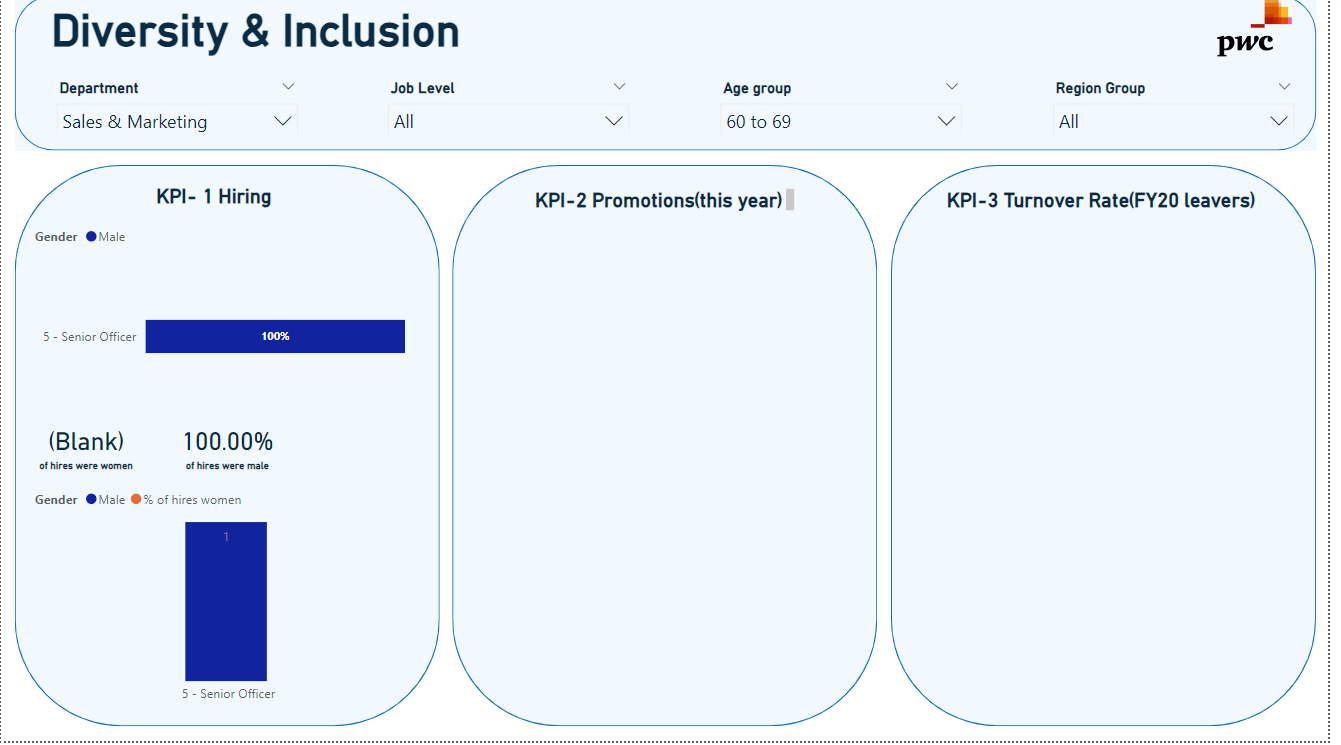

This screenshot's page, from the dashboard's own definition file:
{"tool":"powerbi","page":{"name":"Diversity  1","canvas":[1280,720],"ordinal":0},"visuals":[{"type":"shape","box":[12.9,164.3,410,541.4],"z":0},{"type":"shape","box":[12.9,0,1255.7,150],"z":1000},{"type":"textbox","box":[42.9,4.3,417.1,60],"z":2000},{"type":"image","box":[1161.4,0,95.7,64.3],"z":3000},{"type":"slicer","fields":{"Values":["Pharma Group AG.Department @01.07.2020"]},"box":[42.9,75.7,252.9,58.6],"z":4000},{"type":"slicer","fields":{"Values":["Pharma Group AG.Broad region group: nationality 1"]},"box":[1004.3,75.7,252.9,58.6],"z":5000},{"type":"slicer","fields":{"Values":["Pharma Group AG.Job Level before FY20 promotions"]},"box":[363.3,75.7,252.9,58.6],"z":6000},{"type":"slicer","fields":{"Values":["Pharma Group AG.Age group"]},"box":[683.8,75.7,252.9,58.6],"z":7000},{"type":"shape","box":[858.6,164.3,410,541.4],"z":8000},{"type":"shape","box":[435.7,164.3,410,541.4],"z":9000},{"type":"textbox","box":[145,178,146,35],"z":10000},{"type":"textbox","box":[885,181.7,351.7,63.3],"z":11000},{"type":"textbox","box":[510,182,260,31],"z":12000},{"type":"hundredPercentStackedBarChart","fields":{"Category":["Pharma Group AG.Job Level before FY20 promotions"],"Series":["Pharma Group AG.Gender"],"Y":["CountNonNull(Pharma Group AG.Employee ID)"]},"box":[27.3,213.6,367.3,198.2],"z":13000},{"type":"card","fields":{"Values":["Key_Measures.Female"]},"box":[27.3,404.5,109.1,61.8],"z":14000},{"type":"card","fields":{"Values":["Key_Measures.Male"]},"box":[163.6,404.5,109.1,61.8],"z":15000},{"type":"lineClusteredColumnComboChart","fields":{"Category":["Pharma Group AG.Job Level before FY20 promotions"],"Series":["Pharma Group AG.Gender"],"Y":["CountNonNull(Pharma Group AG.Employee ID)"],"Y2":["Key_Measures.Female"]},"box":[27.3,466.4,383.6,225.5],"z":16000},{"type":"lineClusteredColumnComboChart","fields":{"Series":["Pharma Group AG.Gender"],"Y":["CountNonNull(Pharma Group AG.Employee ID)"],"Category":["Pharma Group AG.Job Level after FY20 promotions"],"Y2":["Key_Measures.Promotes who were women 2"]},"box":[448.8,213.8,383.8,225],"z":17000},{"type":"clusteredBarChart","fields":{"Category":["Pharma Group AG.Job Level after FY21 promotions"],"Series":["Pharma Group AG.Gender"],"Y":["Avg(Pharma Group AG.Time in Job Level @01.07.2020)"]},"box":[448.3,448.3,385,244.2],"z":18000},{"type":"lineChart","fields":{"Category":["Pharma Group AG.Job Level after FY20 promotions"],"Y":["Avg(Pharma Group AG.FY19 Performance Rating)"],"Y2":["CountNonNull(Pharma Group AG.FY20 leaver?)"]},"box":[872,230,385,236],"z":19000},{"type":"lineChart","fields":{"Category":["Pharma Group AG.Job Level after FY20 promotions"],"Y":["Avg(Pharma Group AG.FY19 Performance Rating)"],"Series":["Pharma Group AG.Gender"]},"box":[871,448,385,223],"z":20000}]}

Visuals, with their boxes in screenshot pixels (x1, y1, x2, y2), scaled from the page's 1280x720 canvas onto the 1341x745 screenshot:
shape: region(14, 170, 443, 730)
shape: region(14, 0, 1329, 155)
textbox: region(45, 4, 482, 67)
image: region(1217, 0, 1317, 67)
slicer - Pharma Group AG.Department @01.07.2020: region(45, 78, 310, 139)
slicer - Pharma Group AG.Broad region group: nationality 1: region(1052, 78, 1317, 139)
slicer - Pharma Group AG.Job Level before FY20 promotions: region(381, 78, 646, 139)
slicer - Pharma Group AG.Age group: region(716, 78, 981, 139)
shape: region(900, 170, 1329, 730)
shape: region(456, 170, 886, 730)
textbox: region(152, 184, 305, 220)
textbox: region(927, 188, 1296, 254)
textbox: region(534, 188, 807, 220)
hundredPercentStackedBarChart - Pharma Group AG.Job Level before FY20 promotions x Pharma Group AG.Gender: region(29, 221, 413, 426)
card - Key_Measures.Female: region(29, 419, 143, 482)
card - Key_Measures.Male: region(171, 419, 286, 482)
lineClusteredColumnComboChart - Pharma Group AG.Job Level before FY20 promotions x Pharma Group AG.Gender: region(29, 483, 430, 716)
lineClusteredColumnComboChart - Pharma Group AG.Gender x CountNonNull(Pharma Group AG.Employee ID): region(470, 221, 872, 454)
clusteredBarChart - Pharma Group AG.Job Level after FY21 promotions x Pharma Group AG.Gender: region(470, 464, 873, 717)
lineChart - Pharma Group AG.Job Level after FY20 promotions x Avg(Pharma Group AG.FY19 Performance Rating): region(914, 238, 1317, 482)
lineChart - Pharma Group AG.Job Level after FY20 promotions x Avg(Pharma Group AG.FY19 Performance Rating): region(913, 464, 1316, 694)
